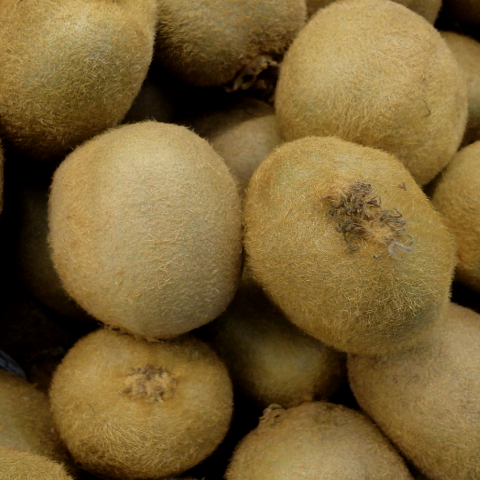kiwi: (25, 120, 267, 359), (230, 123, 461, 368), (267, 0, 475, 186), (43, 309, 236, 480)
